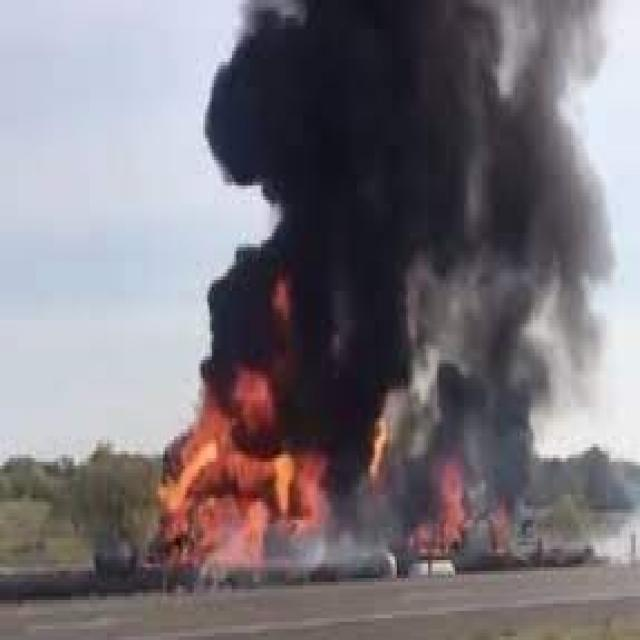fire: (200, 4, 626, 364), (328, 360, 564, 582)
smoke: (156, 374, 330, 582), (401, 465, 464, 560)
